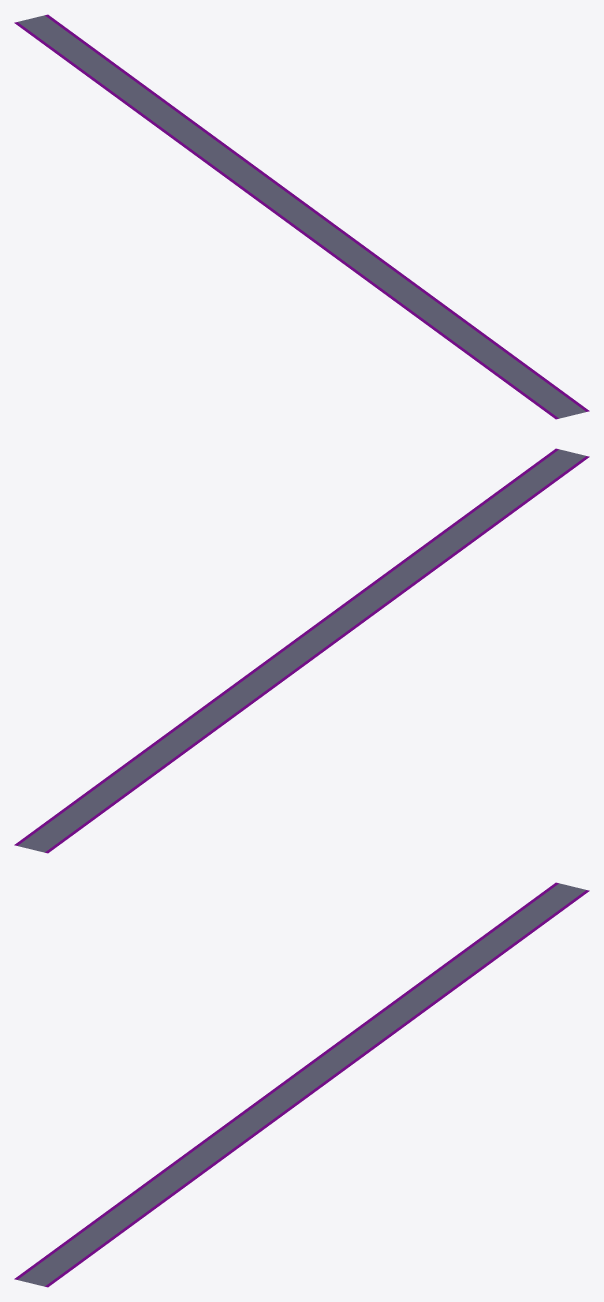
The model's file is Lane.fbx.
The picture shows the model from 3 angles, top to bottom: view 1: azimuth 30°, elevation 25°; view 2: azimuth 150°, elevation 25°; view 3: azimuth 330°, elevation 25°; orthographic projection.
Parts seen in each view (by area): view 1: pPlane1; view 2: pPlane1; view 3: pPlane1.
Part boxes in pixels (bbox=[...]): pPlane1: bbox=[14, 14, 589, 419]; pPlane1: bbox=[14, 448, 589, 853]; pPlane1: bbox=[14, 882, 589, 1287].
Size of the model in its own units: 2 by 0 by 55.14.
